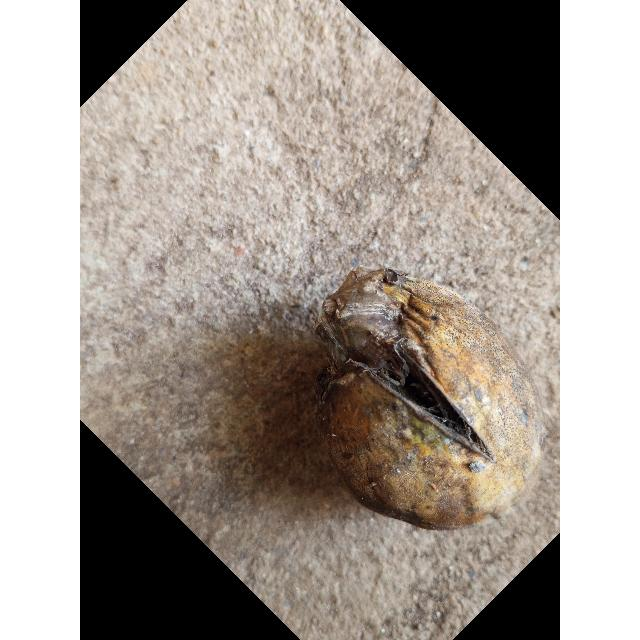damaged: (315, 267, 548, 539)
